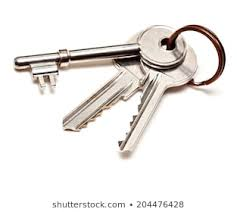kicharina: (10, 19, 191, 88)
